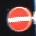No entry: (6, 6, 31, 31)
